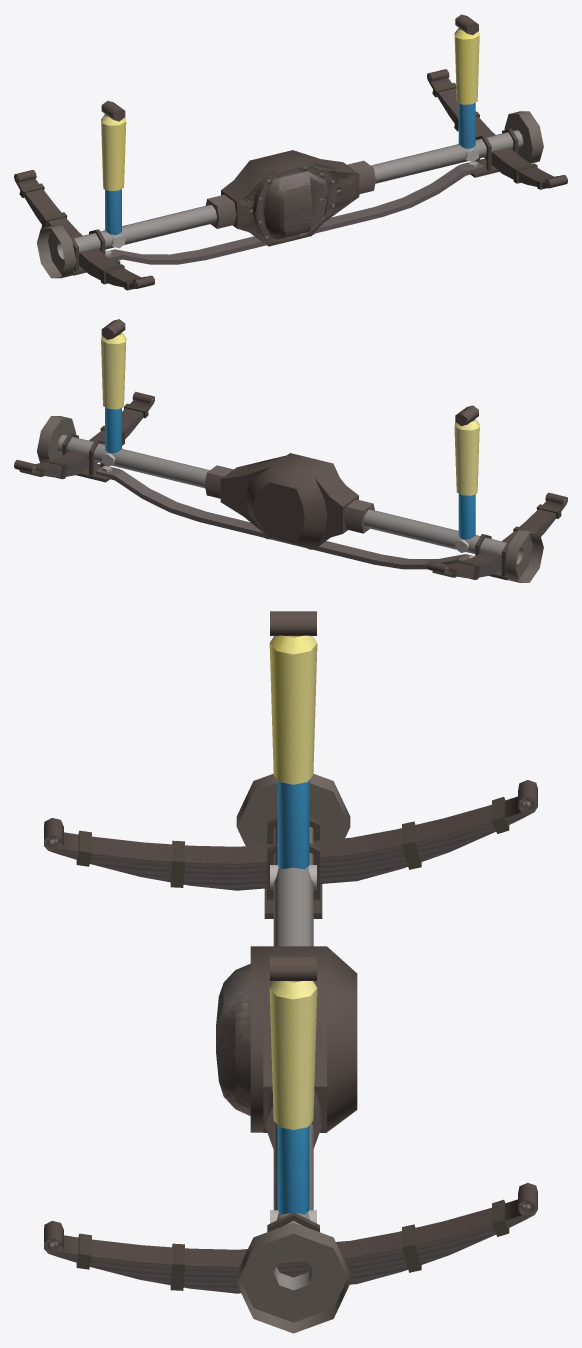
File: back_susspension.fbx
3 views of the same model, one above another, from view 1: azimuth 30°, elevation 25°; view 2: azimuth 150°, elevation 25°; view 3: azimuth 270°, elevation 25° (orthographic). The views are drawn at different scales.
Visible parts, largest first — view 1: node_id473; view 2: node_id473; view 3: node_id473.
Part boxes in pixels (box(x1,y1,x2,y2)): node_id473: box(14, 14, 567, 290); node_id473: box(14, 319, 567, 582); node_id473: box(44, 611, 537, 1333).
Bounding box in the file's own units: 0.4303 × 0.1516 × 0.1924.
1 material, 1 textured.
